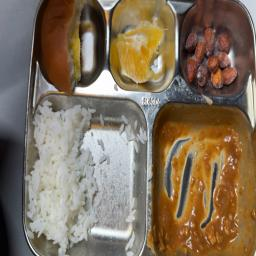50_bread: (41, 0, 107, 94)
50_nuts: (184, 22, 243, 92)
50_orange: (109, 15, 176, 86)
50_rice: (29, 97, 148, 254)
empty: (154, 109, 253, 256)
